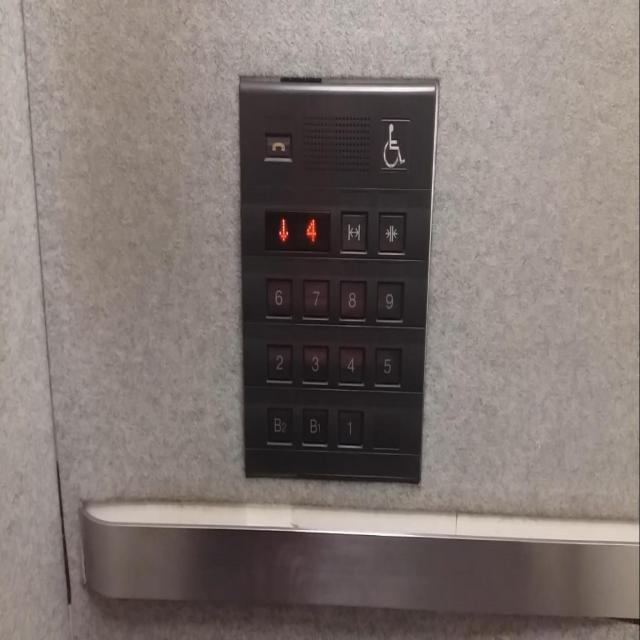1: (335, 405, 366, 448)
2: (264, 339, 293, 384)
3: (298, 342, 331, 385)
4: (335, 342, 367, 386)
5: (372, 342, 404, 388)
6: (264, 274, 294, 319)
7: (302, 276, 330, 319)
8: (337, 275, 367, 323)
9: (375, 276, 405, 322)
B1: (299, 403, 330, 448)
B2: (265, 401, 294, 446)
CH: (377, 116, 411, 171)
call: (261, 130, 293, 162)
close: (378, 212, 406, 256)
led: (264, 207, 331, 251)
open: (339, 211, 368, 254)
